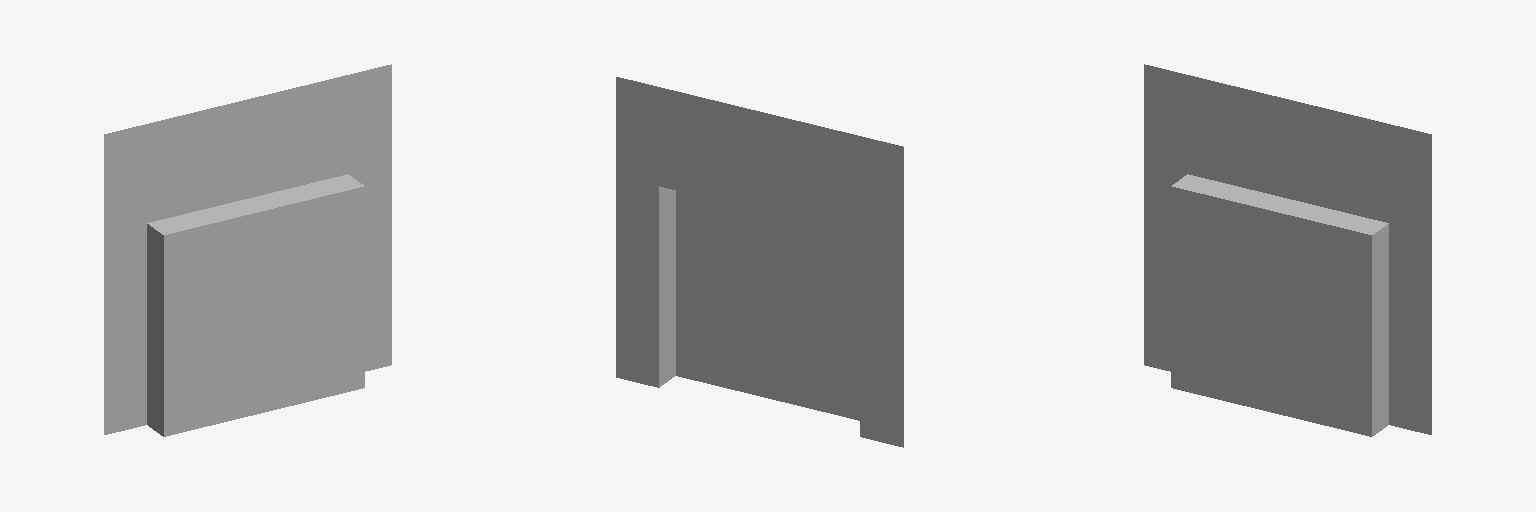
File: wall-a-flat-garage.obj
3 renders of one model, left to right at view 1: azimuth 30°, elevation 25°; view 2: azimuth 150°, elevation 25°; view 3: azimuth 330°, elevation 25°, orthographic.
Parts seen in each view (by area): view 1: wall-a-flat-garage; view 2: wall-a-flat-garage; view 3: wall-a-flat-garage.
Boxes of the visible parts, <box> form: wall-a-flat-garage: <box>104,64,391,436</box>; wall-a-flat-garage: <box>616,77,903,447</box>; wall-a-flat-garage: <box>1144,64,1431,436</box>.
Bounding box in the file's own units: 1 × 1 × 0.1.